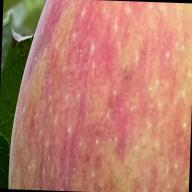Apples: (7, 0, 192, 192)
